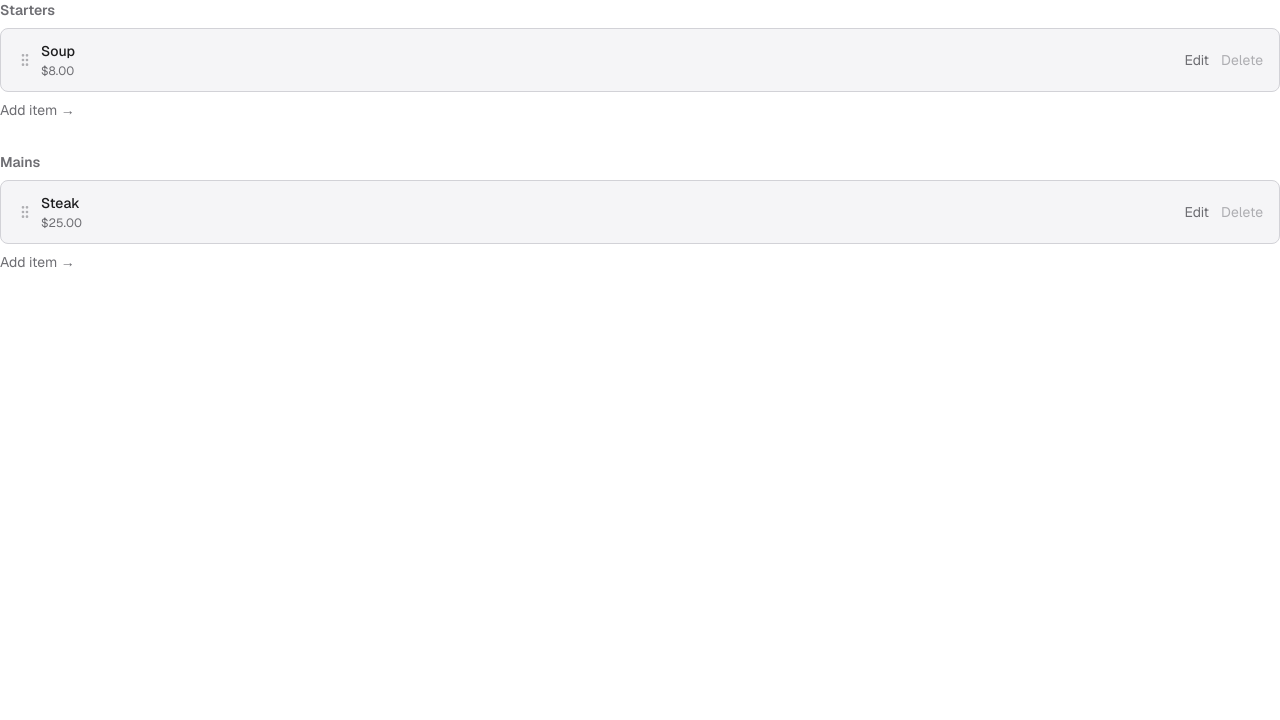
Test case: MenuItemList › shows inline error when delete fails
Click the button with aria-label "Delete Soup" at (1242,60), box [1221,50,1263,70]
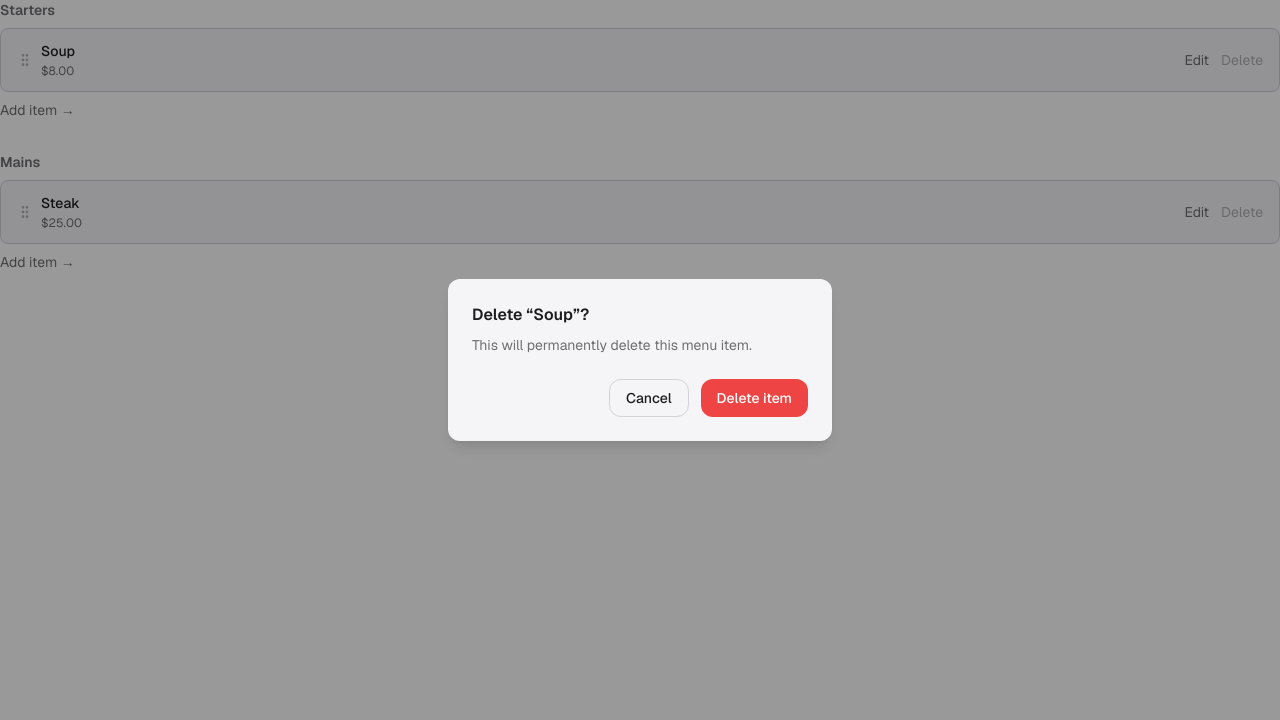
Click the button "Delete item" at (754,398), box [701,379,808,417]
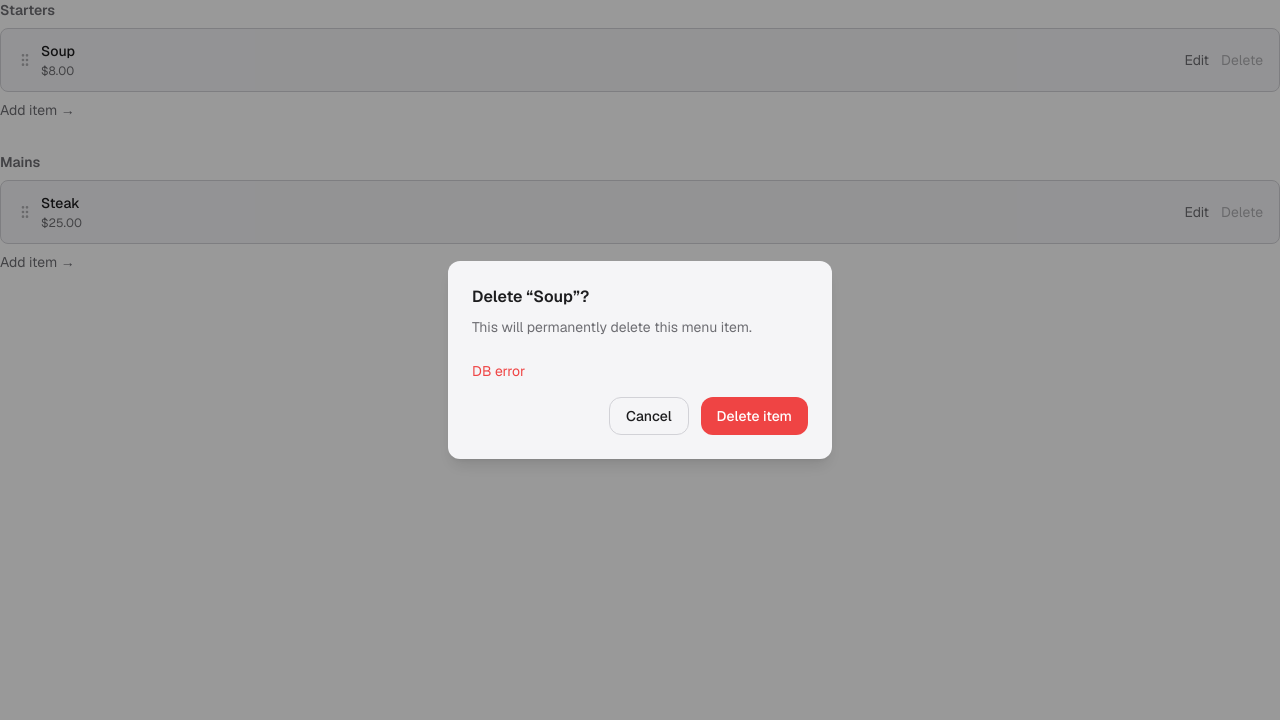
Expected: the text "Soup" is shown, [41,41,75,61]
Expected: the message reads "DB error", [472,362,525,380]
